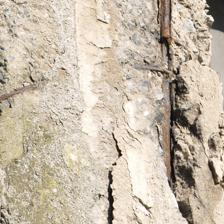Crack: (115, 28, 224, 203), (0, 0, 133, 76)
